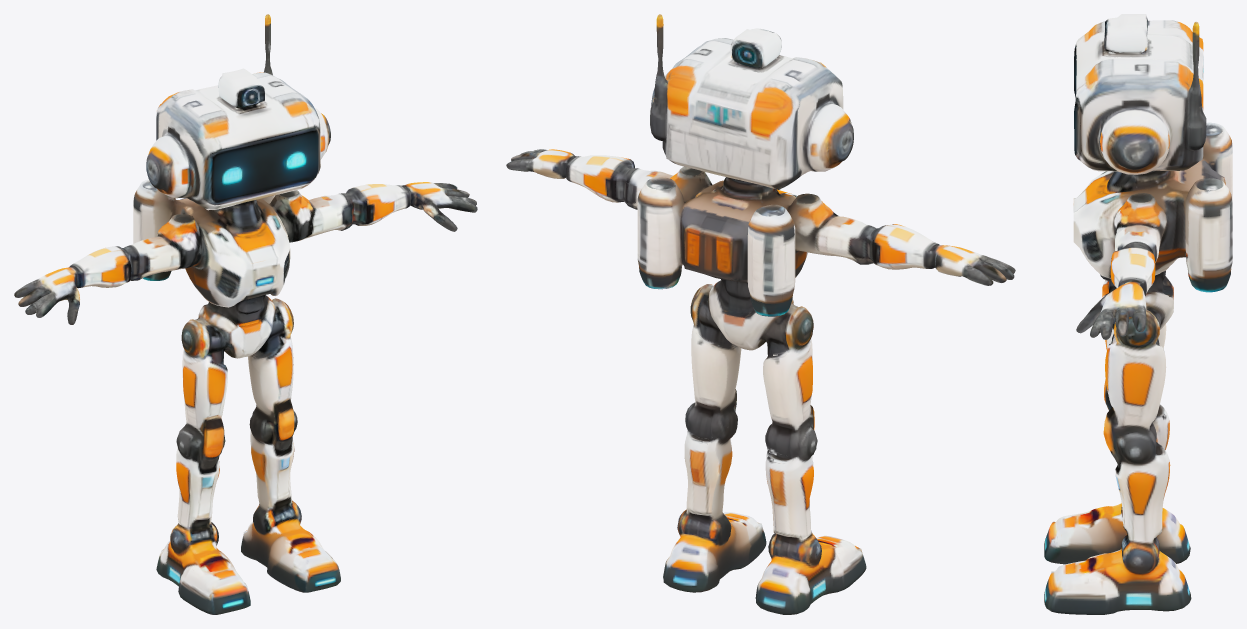
File: base_basic_shaded.fbx
3 renders of one model, left to right at view 1: azimuth 30°, elevation 25°; view 2: azimuth 150°, elevation 25°; view 3: azimuth 270°, elevation 25°, orthographic. The views are drawn at different scales.
Visible parts, largest first — view 1: model; view 2: model; view 3: model.
Boxes of the visible parts, x1=… form: model: x1=14, y1=14, x2=477, y2=614; model: x1=506, y1=14, x2=1015, y2=614; model: x1=1044, y1=14, x2=1232, y2=614.
Size of the model in its own units: 170 by 190 by 55.15.
